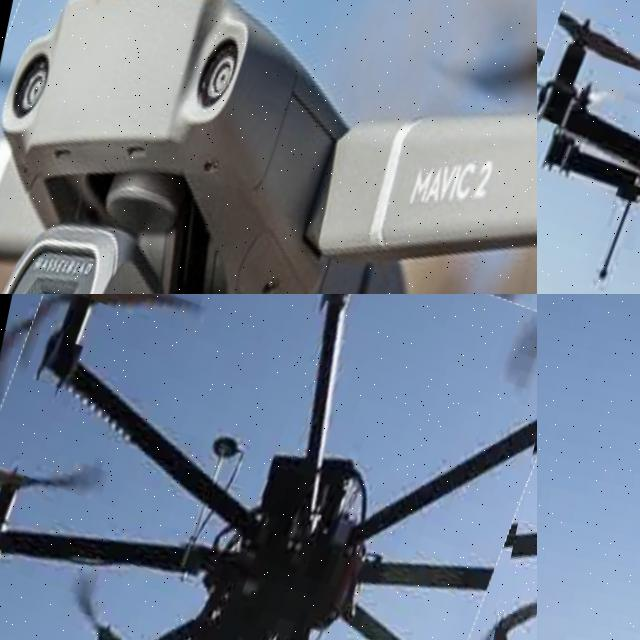drone: (0, 294, 537, 640), (0, 0, 537, 294), (537, 0, 640, 294)
